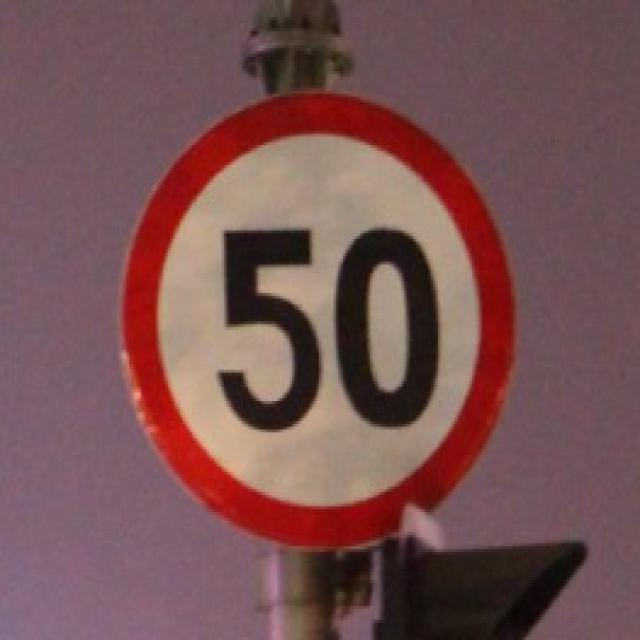Speed Limit -50-: (210, 216, 445, 434)
